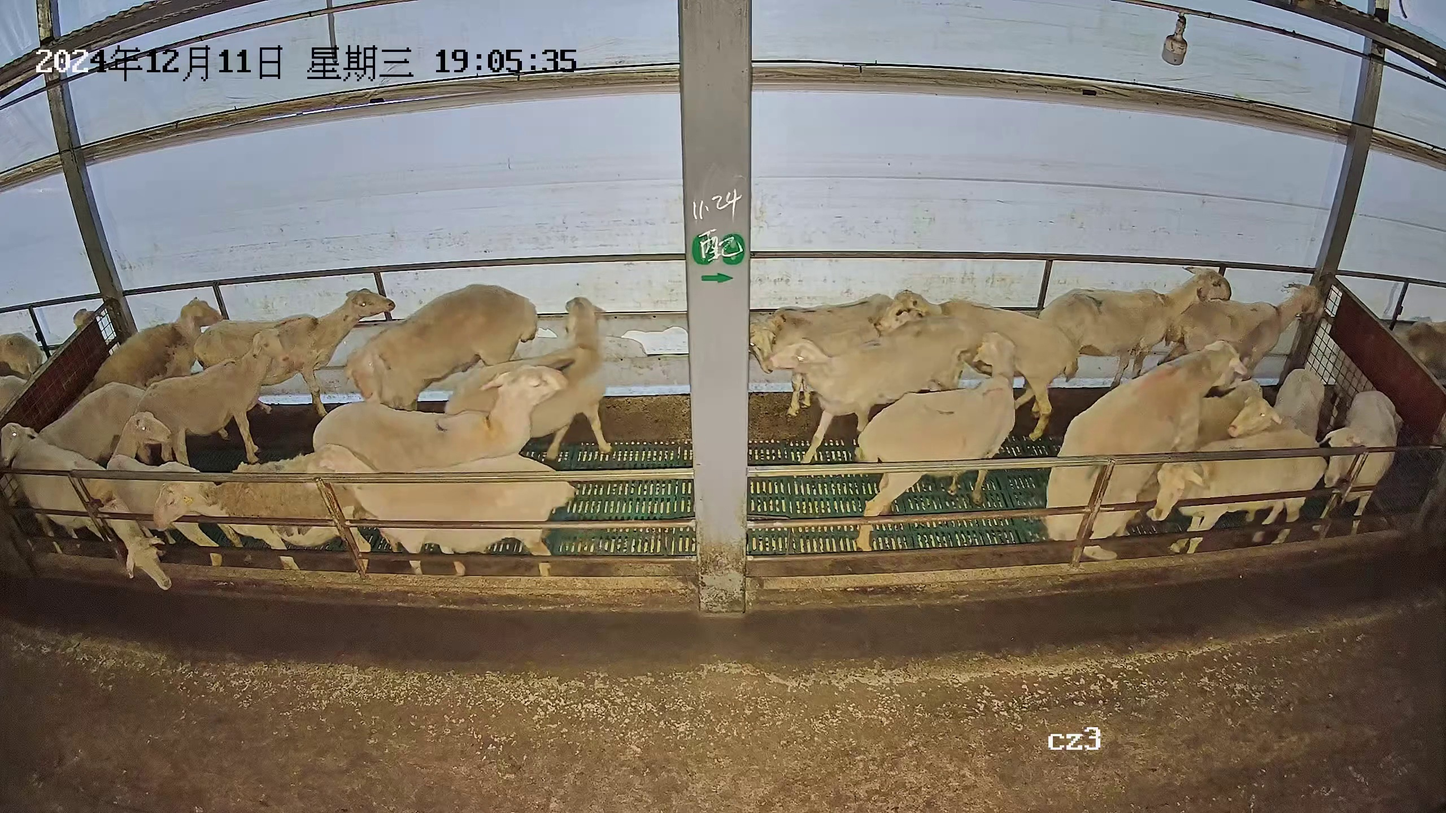Smounting: (1039, 338, 1269, 563)
mounted: (1118, 375, 1264, 524)
